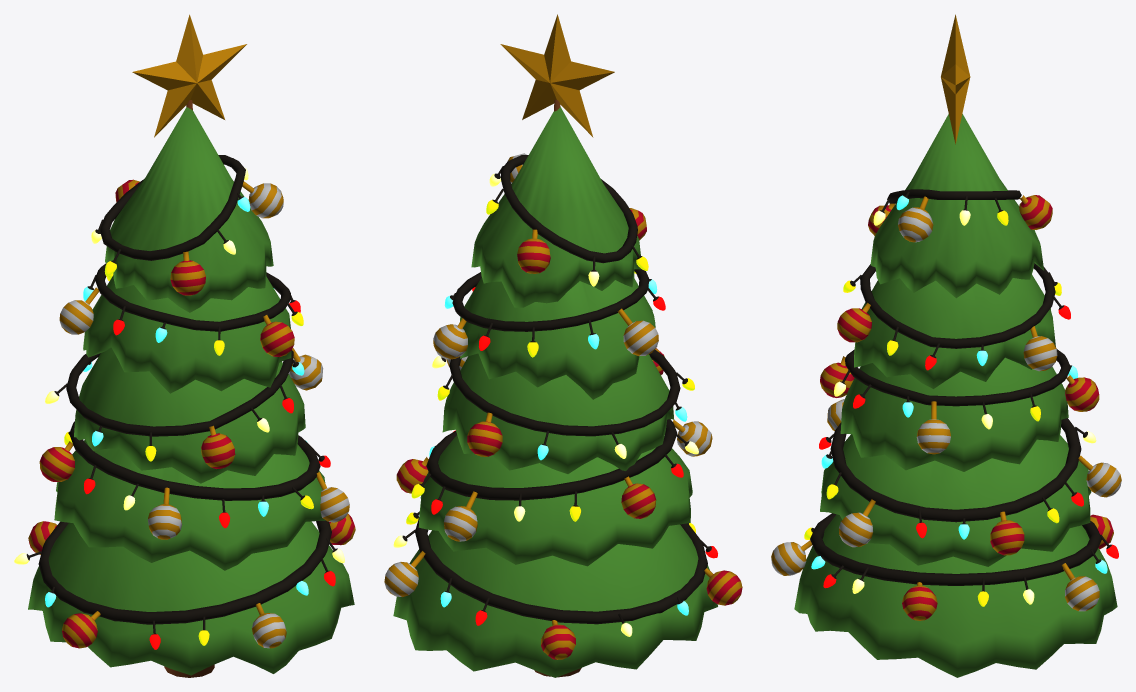
File: Christmas Tree.glb
3 renders of one model, left to right at view 1: azimuth 30°, elevation 25°; view 2: azimuth 150°, elevation 25°; view 3: azimuth 270°, elevation 25°, orthographic.
Parts seen in each view (by area): view 1: Tree; view 2: Tree; view 3: Tree.
Part boxes in pixels (box(x1,y1,x2,y2)): Tree: box(14, 14, 355, 677); Tree: box(384, 14, 742, 677); Tree: box(771, 14, 1121, 677).
Size of the model in its own units: 76.72 by 160 by 78.74.
